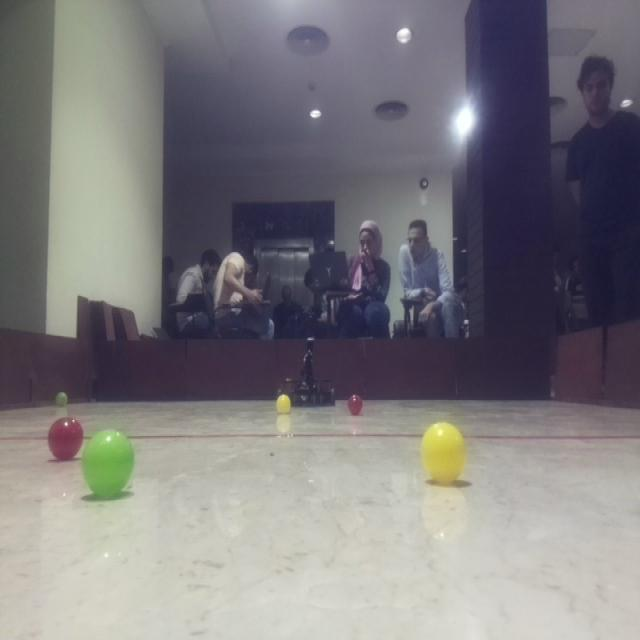ball: (82, 427, 136, 496), (417, 420, 470, 487), (48, 413, 85, 463), (271, 391, 293, 416), (346, 391, 368, 416), (50, 387, 72, 411)
